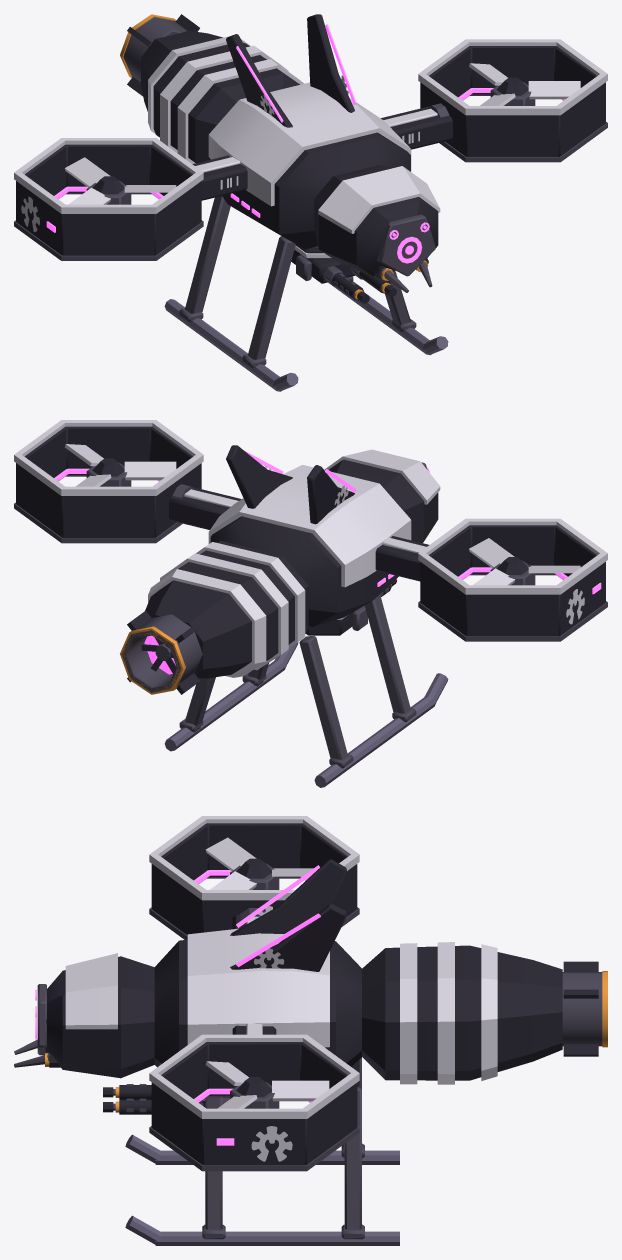
The model's file is drone_gunship.glb.
3 views of the same model, one above another, from view 1: azimuth 30°, elevation 25°; view 2: azimuth 150°, elevation 25°; view 3: azimuth 270°, elevation 25° (orthographic). The views are drawn at different scales.
Visible parts, largest first — view 1: drone_gunship_shell, drone_gunship_ceramic, duct_R, duct_L, drone_gunship_metal, drone_gunship_polymer, thruster, rotor_L, rotor_R, gun, drone_gunship_glow, turret; view 2: drone_gunship_shell, drone_gunship_ceramic, duct_R, duct_L, drone_gunship_metal, thruster, drone_gunship_polymer, rotor_L, rotor_R, turret, thruster_fan; view 3: drone_gunship_shell, drone_gunship_ceramic, duct_L, duct_R, drone_gunship_polymer, drone_gunship_metal, thruster, rotor_L, rotor_R, gun, drone_gunship_glow, duct_L_decal.
Boxes of the visible parts, box(x1,y1,x2,y2) form: drone_gunship_shell: box(141, 14, 452, 279); drone_gunship_ceramic: box(148, 36, 440, 233); duct_R: box(14, 138, 203, 260); duct_L: box(418, 39, 607, 162); drone_gunship_metal: box(179, 103, 449, 368); drone_gunship_polymer: box(164, 282, 448, 391); thruster: box(120, 14, 199, 96); rotor_L: box(469, 63, 580, 105); rotor_R: box(65, 157, 176, 204); gun: box(310, 258, 396, 303); drone_gunship_glow: box(230, 24, 429, 263); turret: box(291, 244, 332, 280); drone_gunship_shell: box(145, 445, 438, 678); drone_gunship_ceramic: box(148, 449, 440, 677); duct_R: box(418, 518, 607, 641); duct_L: box(14, 420, 203, 543); drone_gunship_metal: box(172, 462, 427, 768); thruster: box(120, 610, 202, 694); drone_gunship_polymer: box(164, 642, 448, 787); rotor_L: box(65, 444, 176, 486); rotor_R: box(469, 538, 580, 585); turret: box(305, 605, 367, 635); thruster_fan: box(141, 637, 176, 673); drone_gunship_shell: box(45, 859, 562, 1080); drone_gunship_ceramic: box(65, 916, 497, 1084); duct_L: box(149, 1034, 359, 1171); duct_R: box(149, 816, 359, 939); drone_gunship_polymer: box(125, 1134, 399, 1245); drone_gunship_metal: box(14, 908, 364, 1239); thruster: box(561, 961, 607, 1056); rotor_L: box(205, 1061, 329, 1108); rotor_R: box(205, 837, 313, 889); gun: box(103, 1084, 203, 1114); drone_gunship_glow: box(35, 865, 320, 1039); duct_L_decal: box(251, 1126, 292, 1161).
Size of the model in its own units: 1.2 by 0.613 by 1.02.
